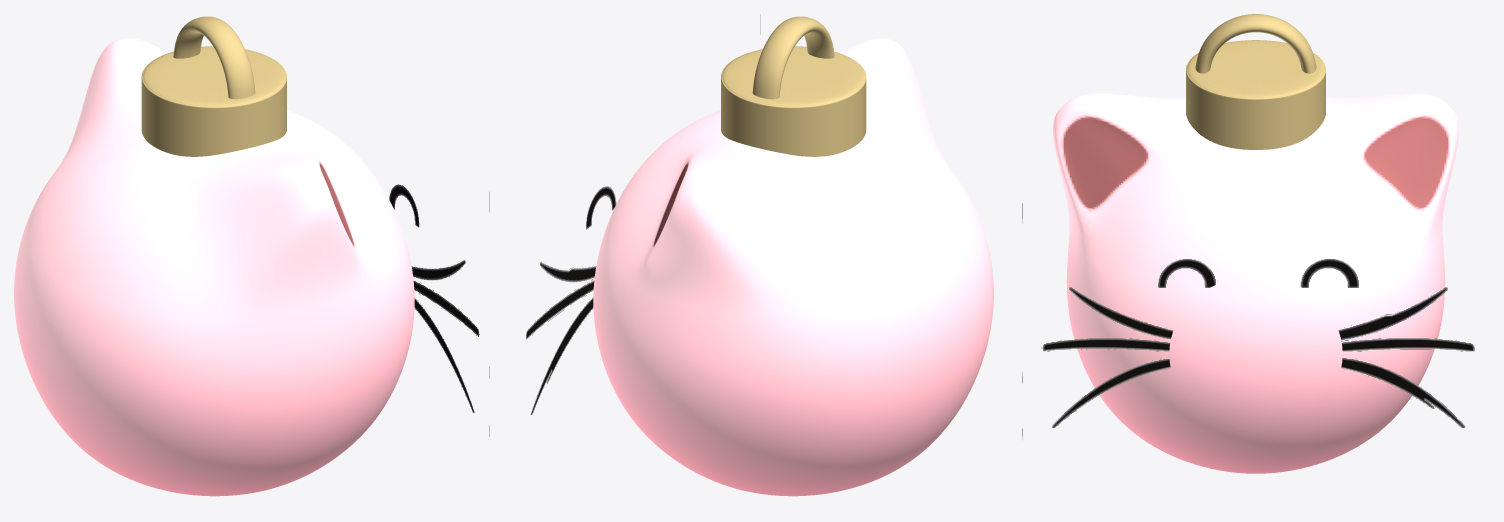
The model's file is cat_bauble.glb.
3 renders of one model, left to right at view 1: azimuth 30°, elevation 25°; view 2: azimuth 150°, elevation 25°; view 3: azimuth 270°, elevation 25°, orthographic. The views are drawn at different scales.
Visible parts, largest first — view 1: p_Bauble1; view 2: p_Bauble1; view 3: p_Bauble1.
Boxes of the visible parts, <box> form: p_Bauble1: <box>14,16,489,496</box>; p_Bauble1: <box>526,14,993,496</box>; p_Bauble1: <box>1022,14,1474,473</box>.
Size of the model in its own units: 1.13 by 1.43 by 1.39.
1 material, 1 textured.
